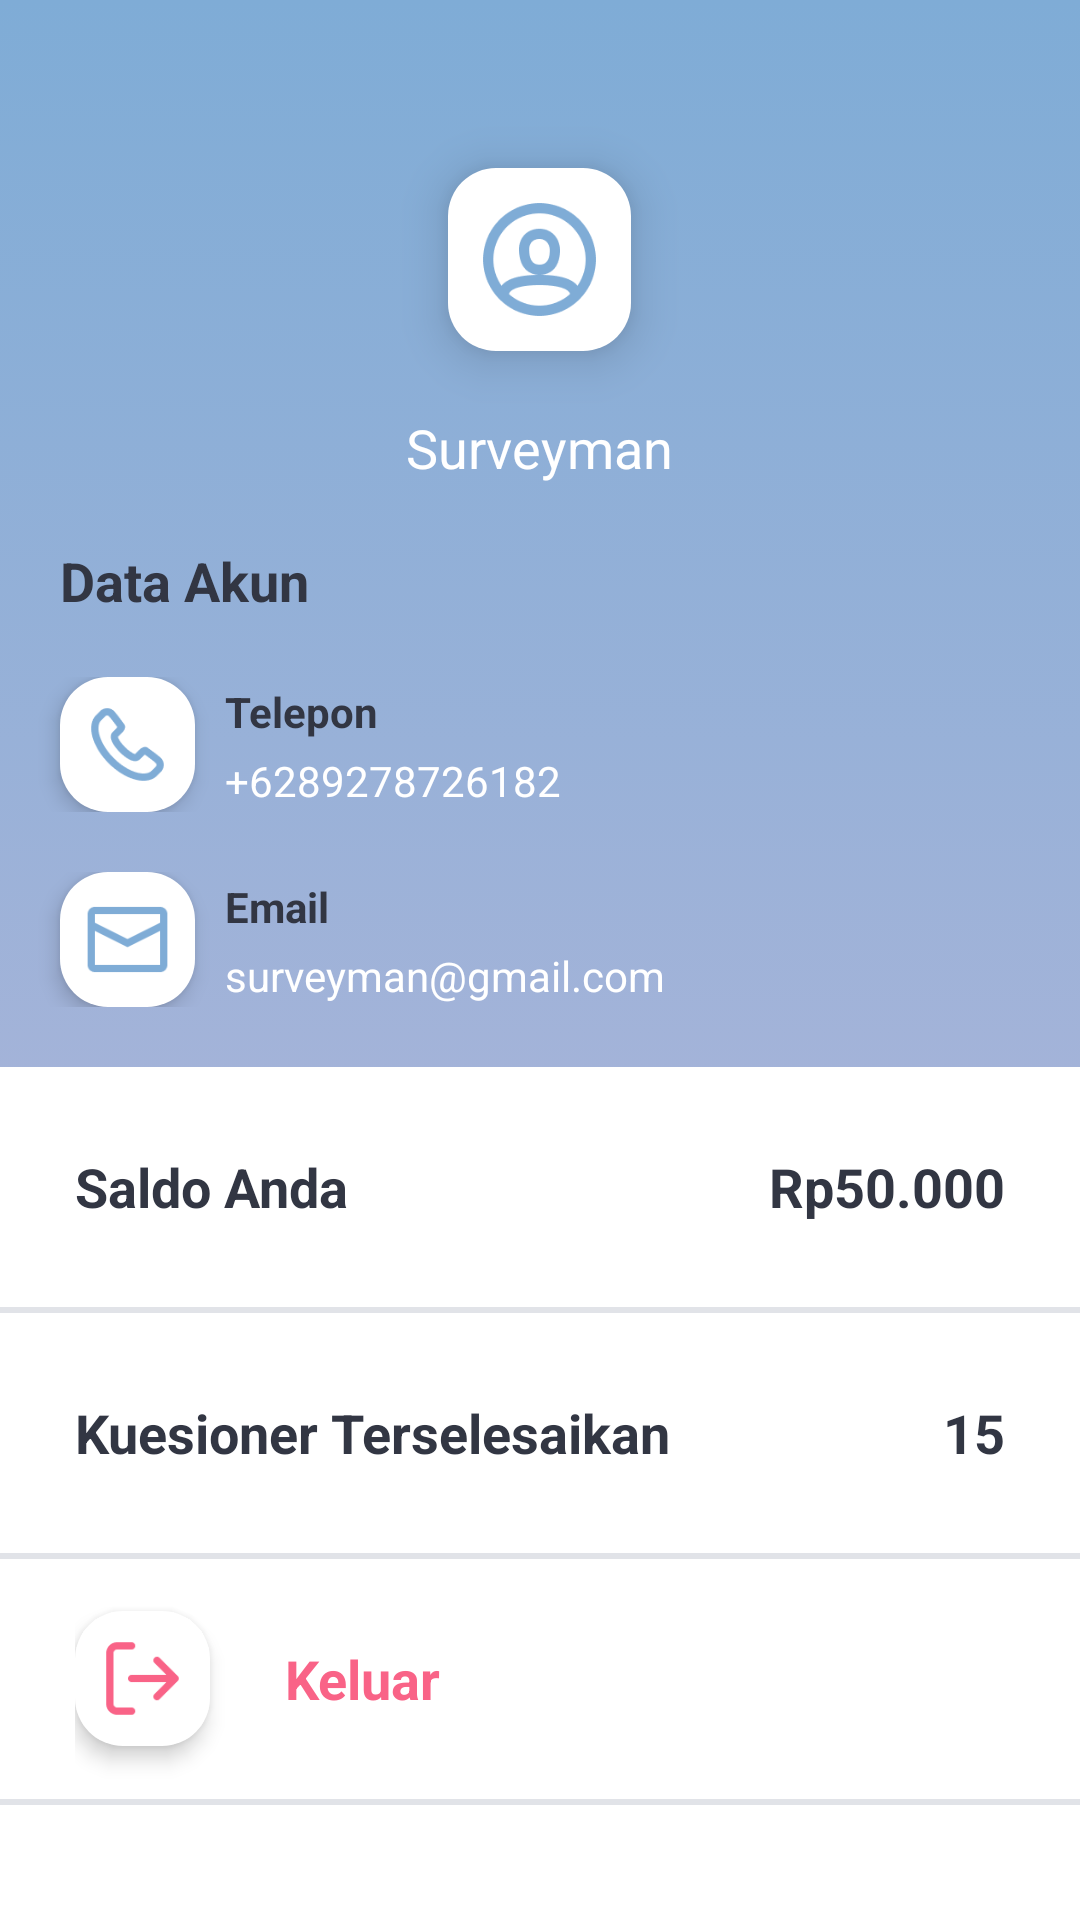

Point at icon controls on the screen. Image size 1080px×1920px, points as (x=x, y=y).
call: (x=127, y=744)
exit: (x=142, y=1678)
user: (x=539, y=259)
